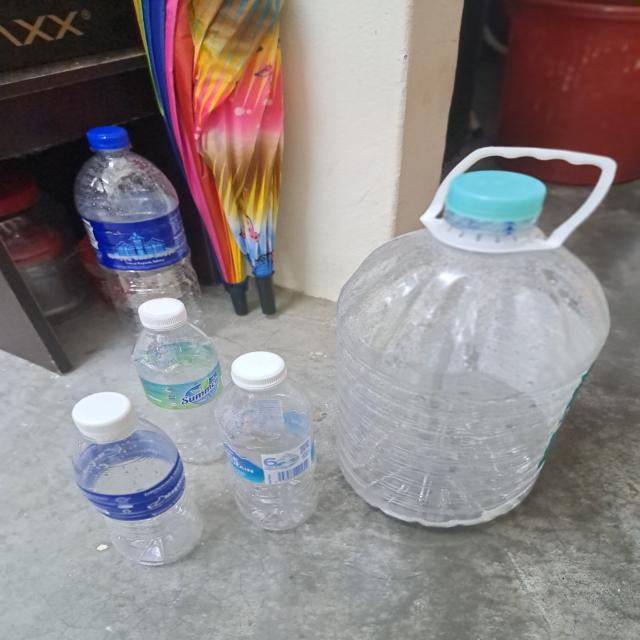plastic bottle: (338, 226, 608, 530), (74, 151, 208, 333), (65, 426, 208, 565), (218, 380, 324, 532), (133, 330, 236, 465)
plastic bottle cap: (443, 169, 547, 229), (74, 391, 136, 440), (227, 351, 290, 391), (137, 296, 188, 330), (86, 122, 133, 152)
